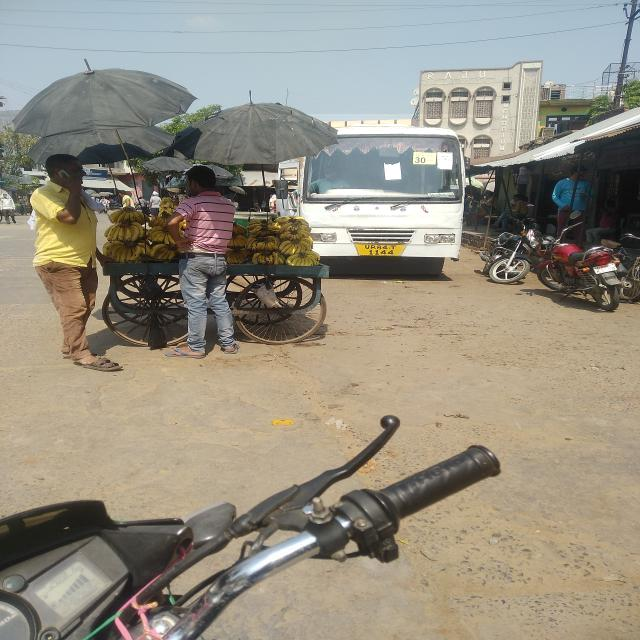Bus: (276, 114, 490, 274)
